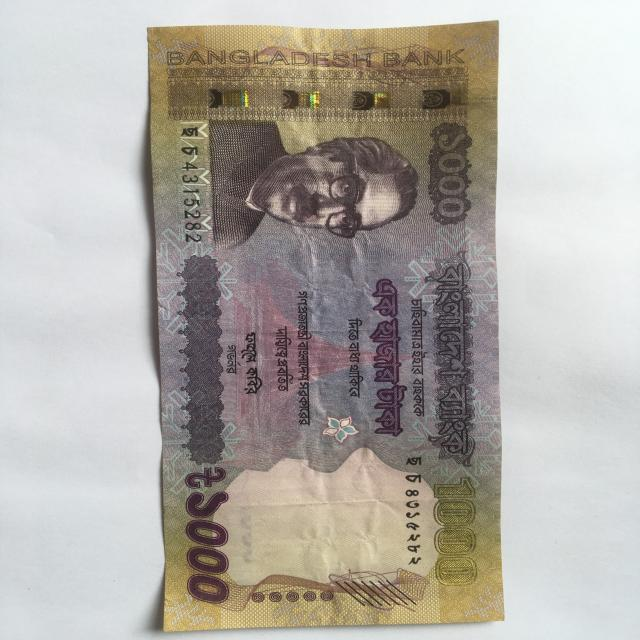Taka: (140, 20, 502, 631)
